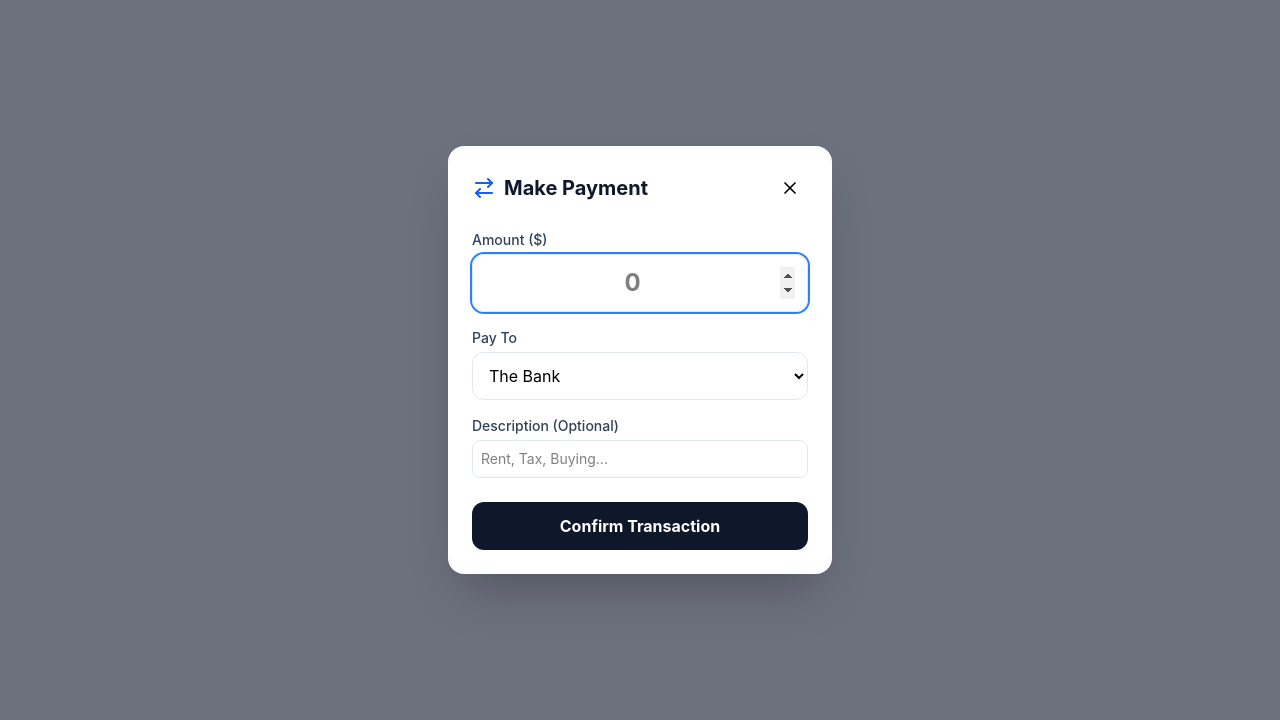
TransferModal numeric hint › shows formatted hint when typing amount
This screenshot has width=1280, height=720.
Type "1500" into the number field with placeholder "0" at x=640, y=283, box [472,254,808,312]
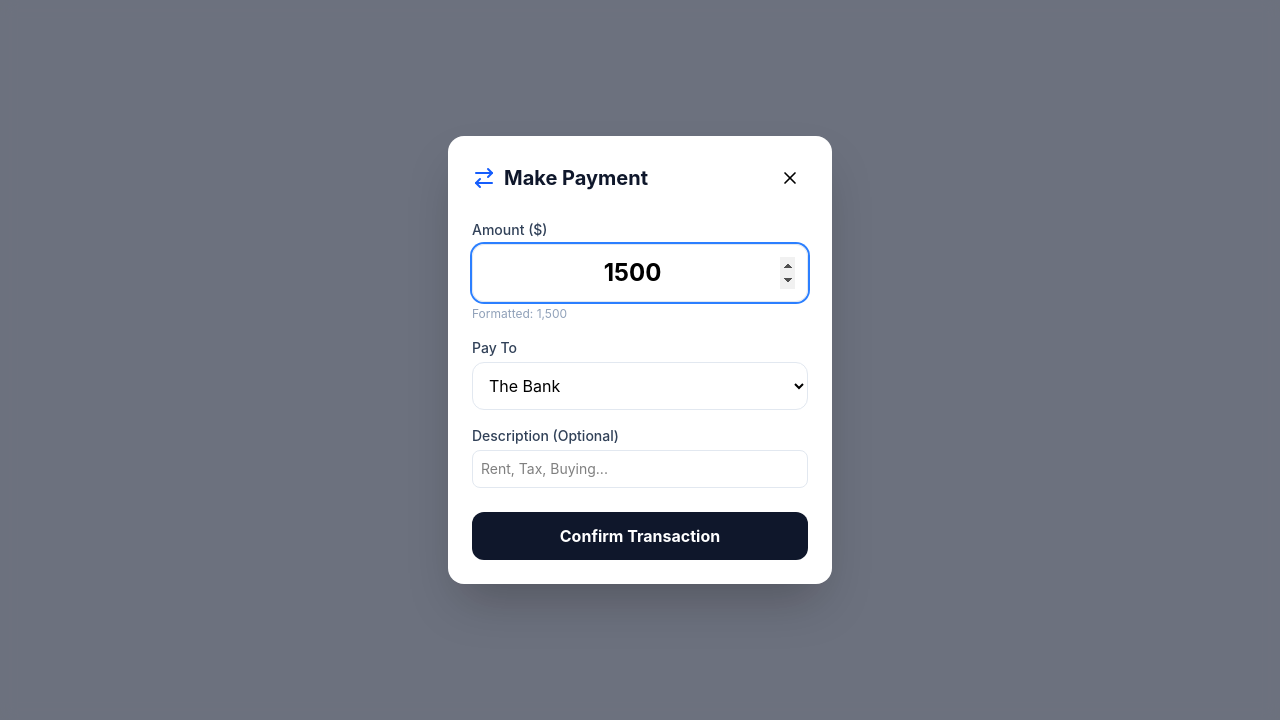
Expected: the text "Formatted:" is shown, [472,306,537,321]
